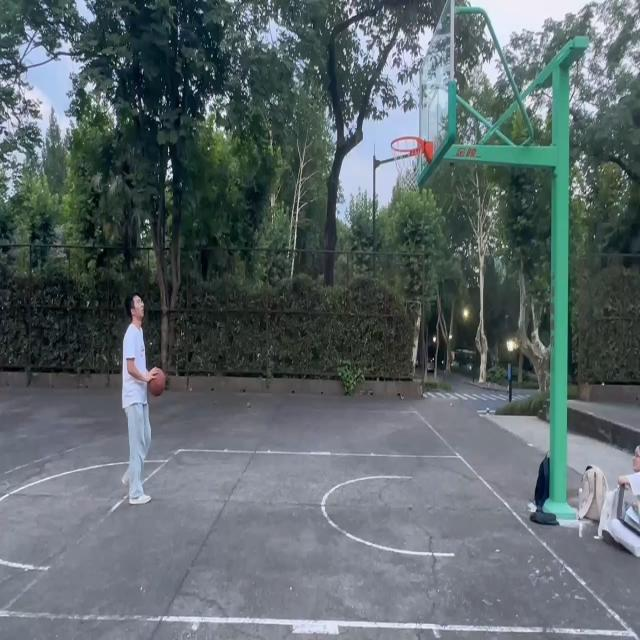basketball: (389, 137, 431, 192)
rim: (148, 368, 166, 396)
